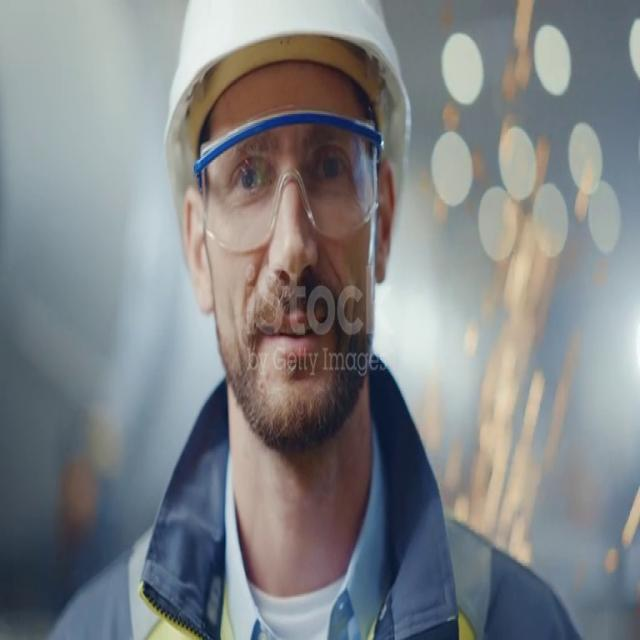capacete: (136, 0, 417, 289)
